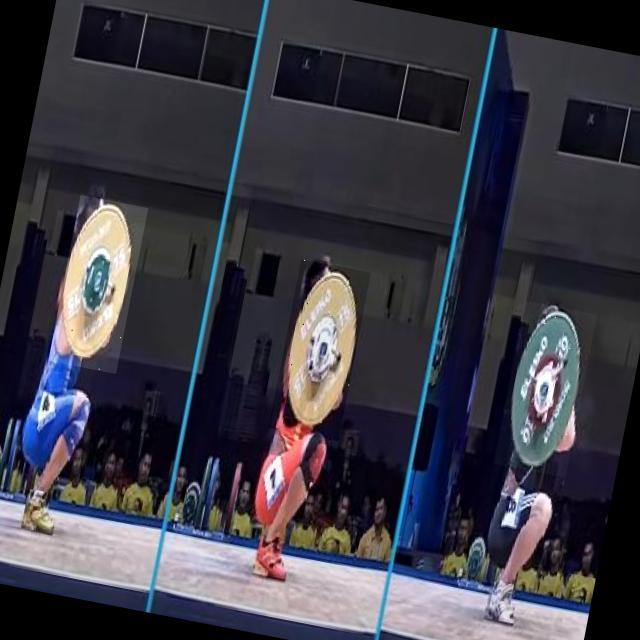barbell: (270, 261, 372, 443), (495, 303, 598, 480), (49, 196, 149, 375)
